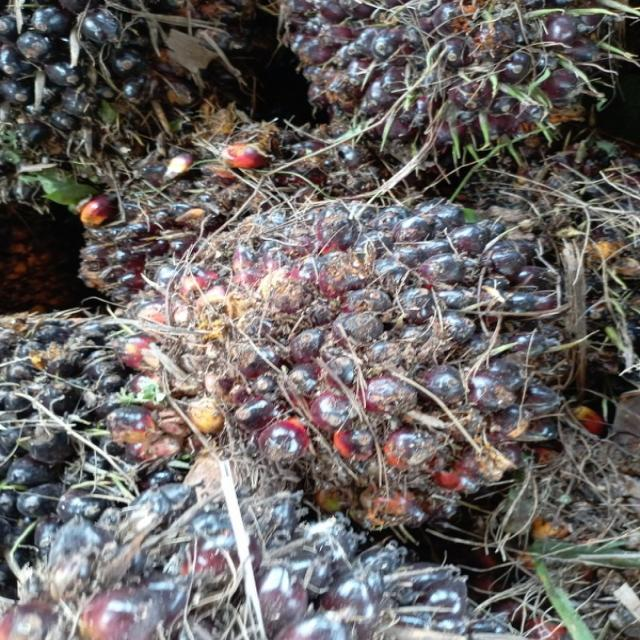fraksi 00: (150, 192, 574, 518), (271, 0, 626, 164)
